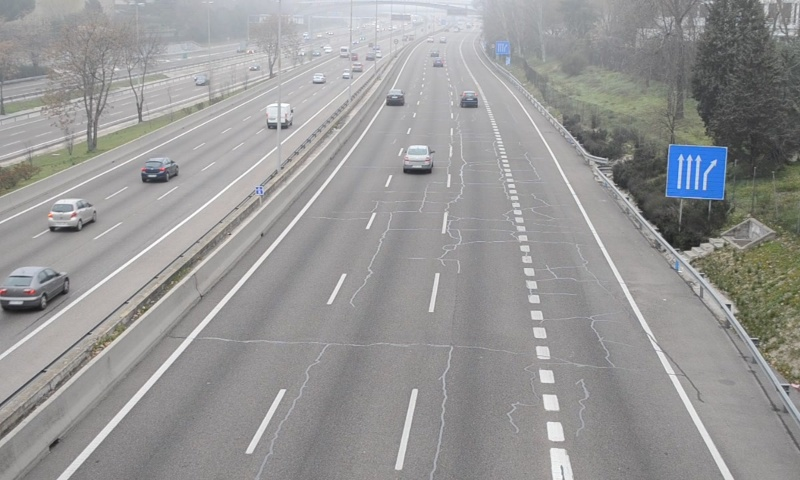car: (404, 144, 433, 172), (460, 90, 478, 108), (386, 89, 404, 106)
